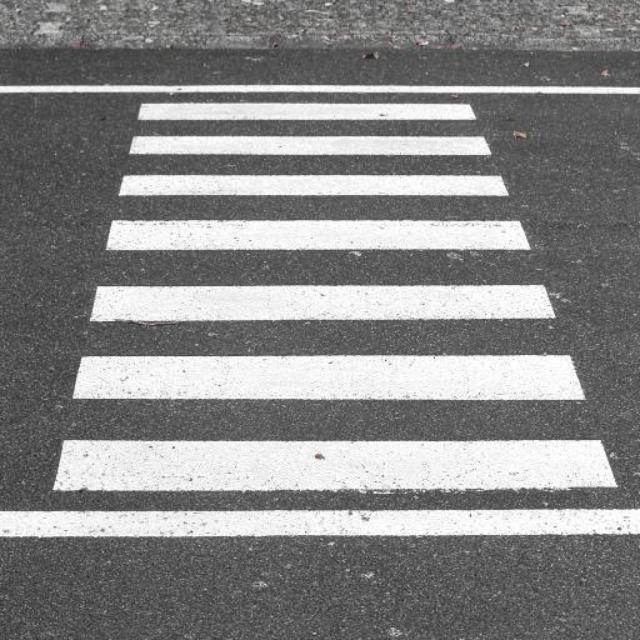sidewalk: (36, 85, 629, 530)
